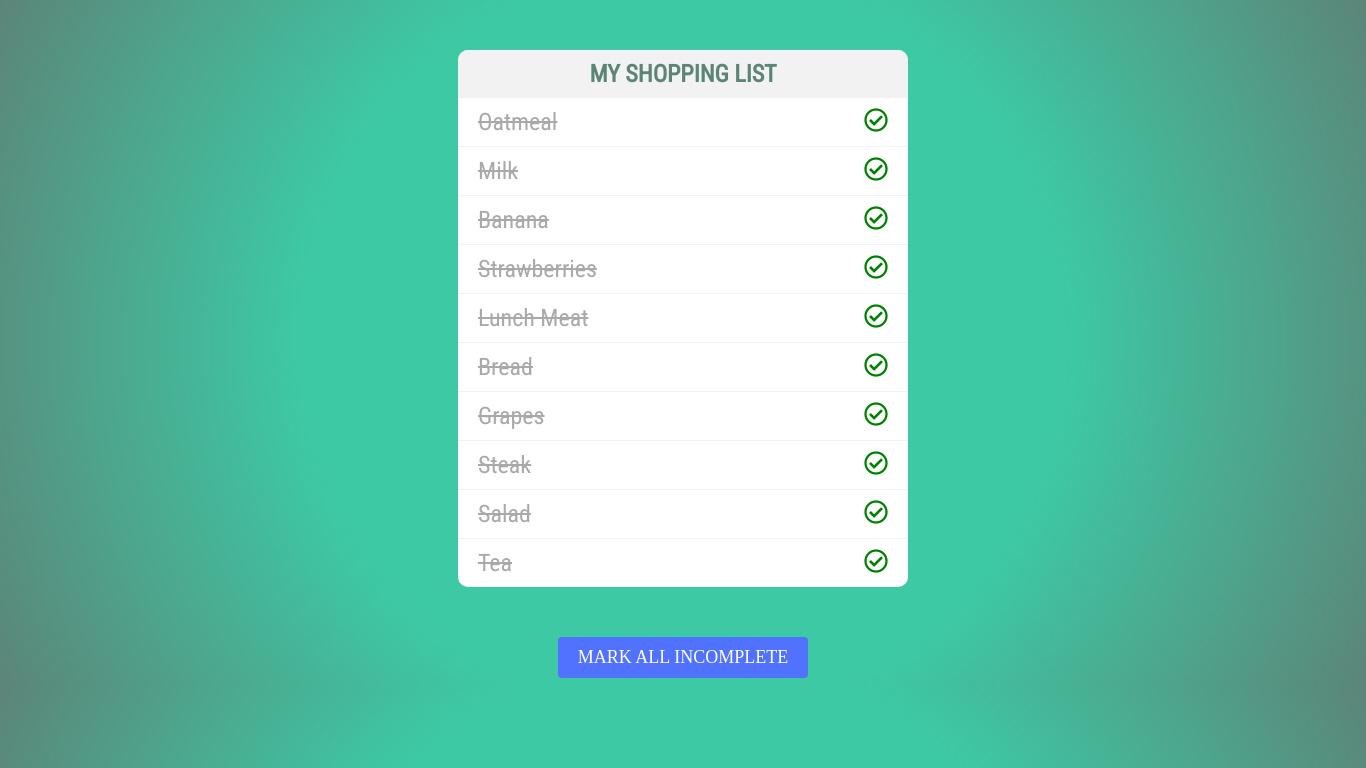
Test: Shopping List Events Exercise Tests › clicking on the mark all incomplete button should set all items to incomplete
The image size is (1366, 768).
Click the link with id "toggleAll". click: (683, 658)
box: top-left (558, 637), bottom-right (808, 678)
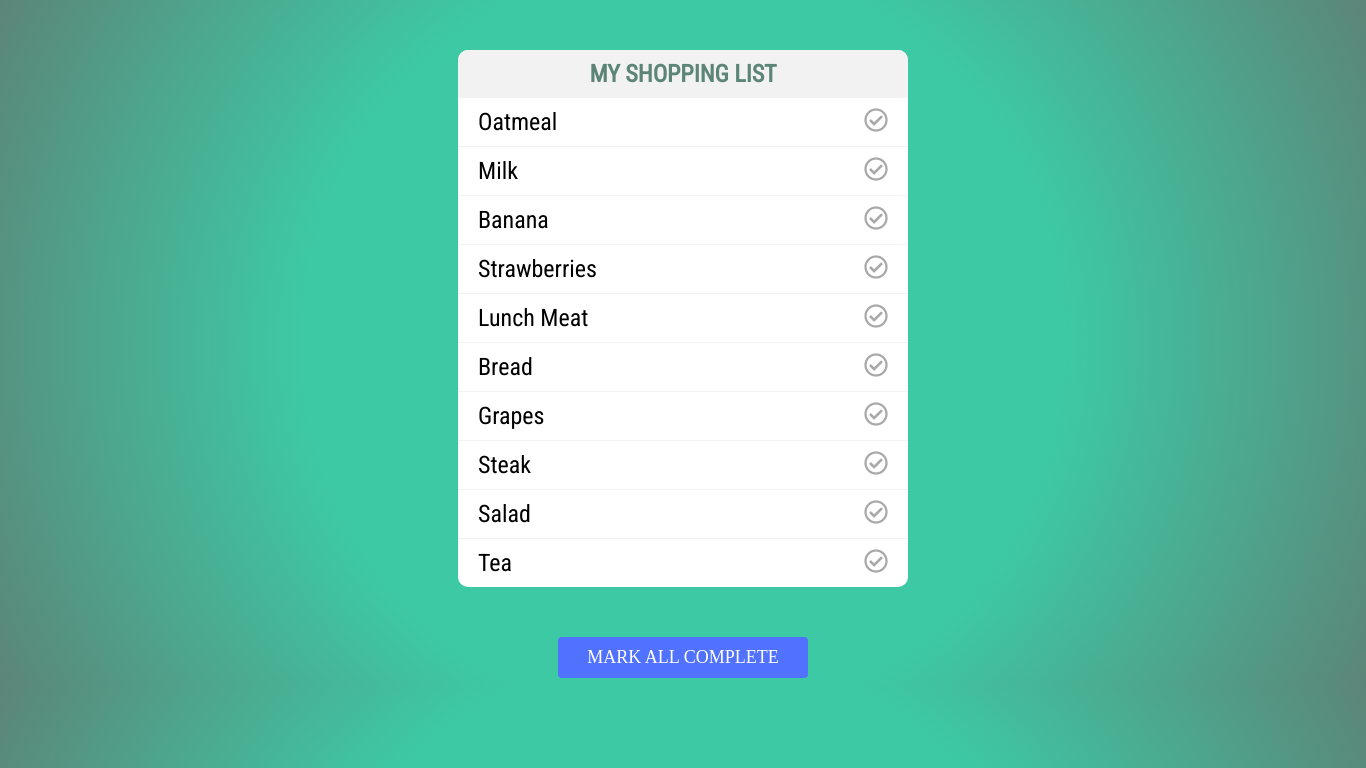
Check: the link with id "toggleAll" reads "Mark All Complete", box top-left (558, 637), bottom-right (808, 678)
